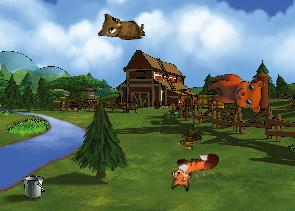bear: (205, 72, 265, 116)
fox: (166, 151, 222, 193)
owl: (97, 10, 145, 41)
